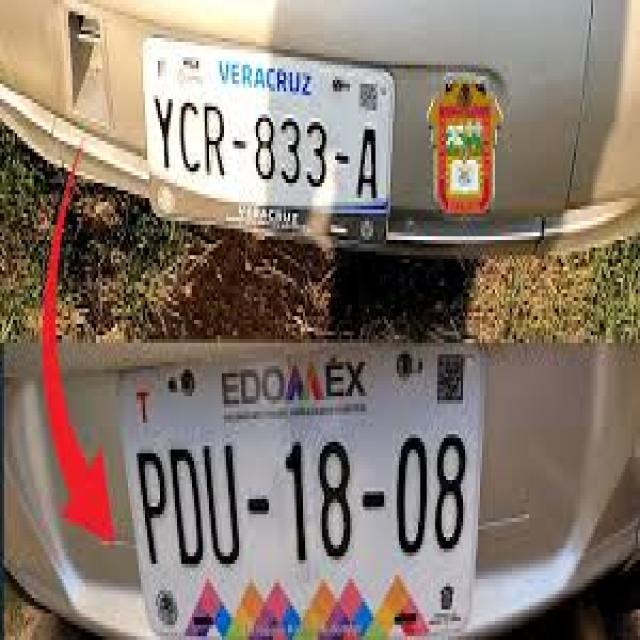placa: (116, 426, 478, 572), (147, 91, 385, 204)
